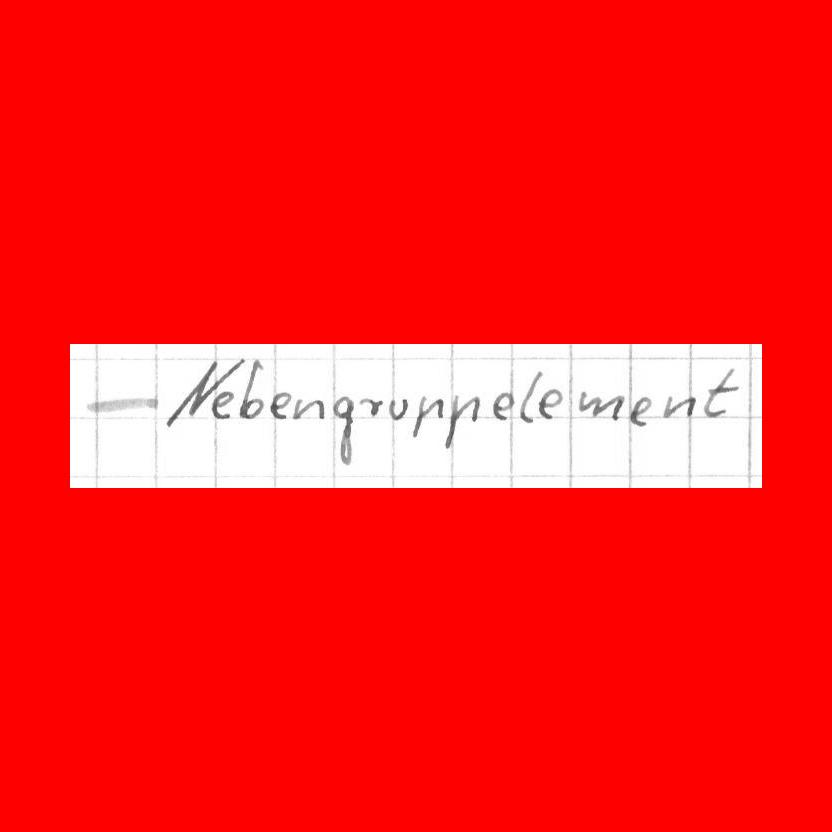Char: (164, 360, 226, 428), (443, 392, 480, 450), (701, 366, 741, 418), (235, 356, 266, 421), (331, 392, 355, 466), (576, 388, 625, 423), (411, 393, 446, 440), (517, 367, 544, 425), (662, 391, 698, 419), (537, 387, 564, 422), (293, 396, 326, 421), (491, 389, 516, 422), (629, 393, 653, 427), (269, 389, 293, 421), (210, 389, 233, 420), (358, 392, 383, 418), (386, 397, 409, 419)
